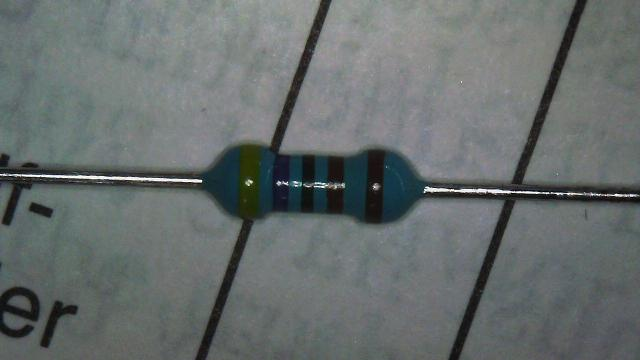black: (300, 156, 316, 212)
brown: (365, 150, 385, 223), (326, 156, 344, 213)
resistor: (190, 118, 431, 237)
violet: (272, 156, 290, 211)
yellow: (237, 145, 260, 219)
